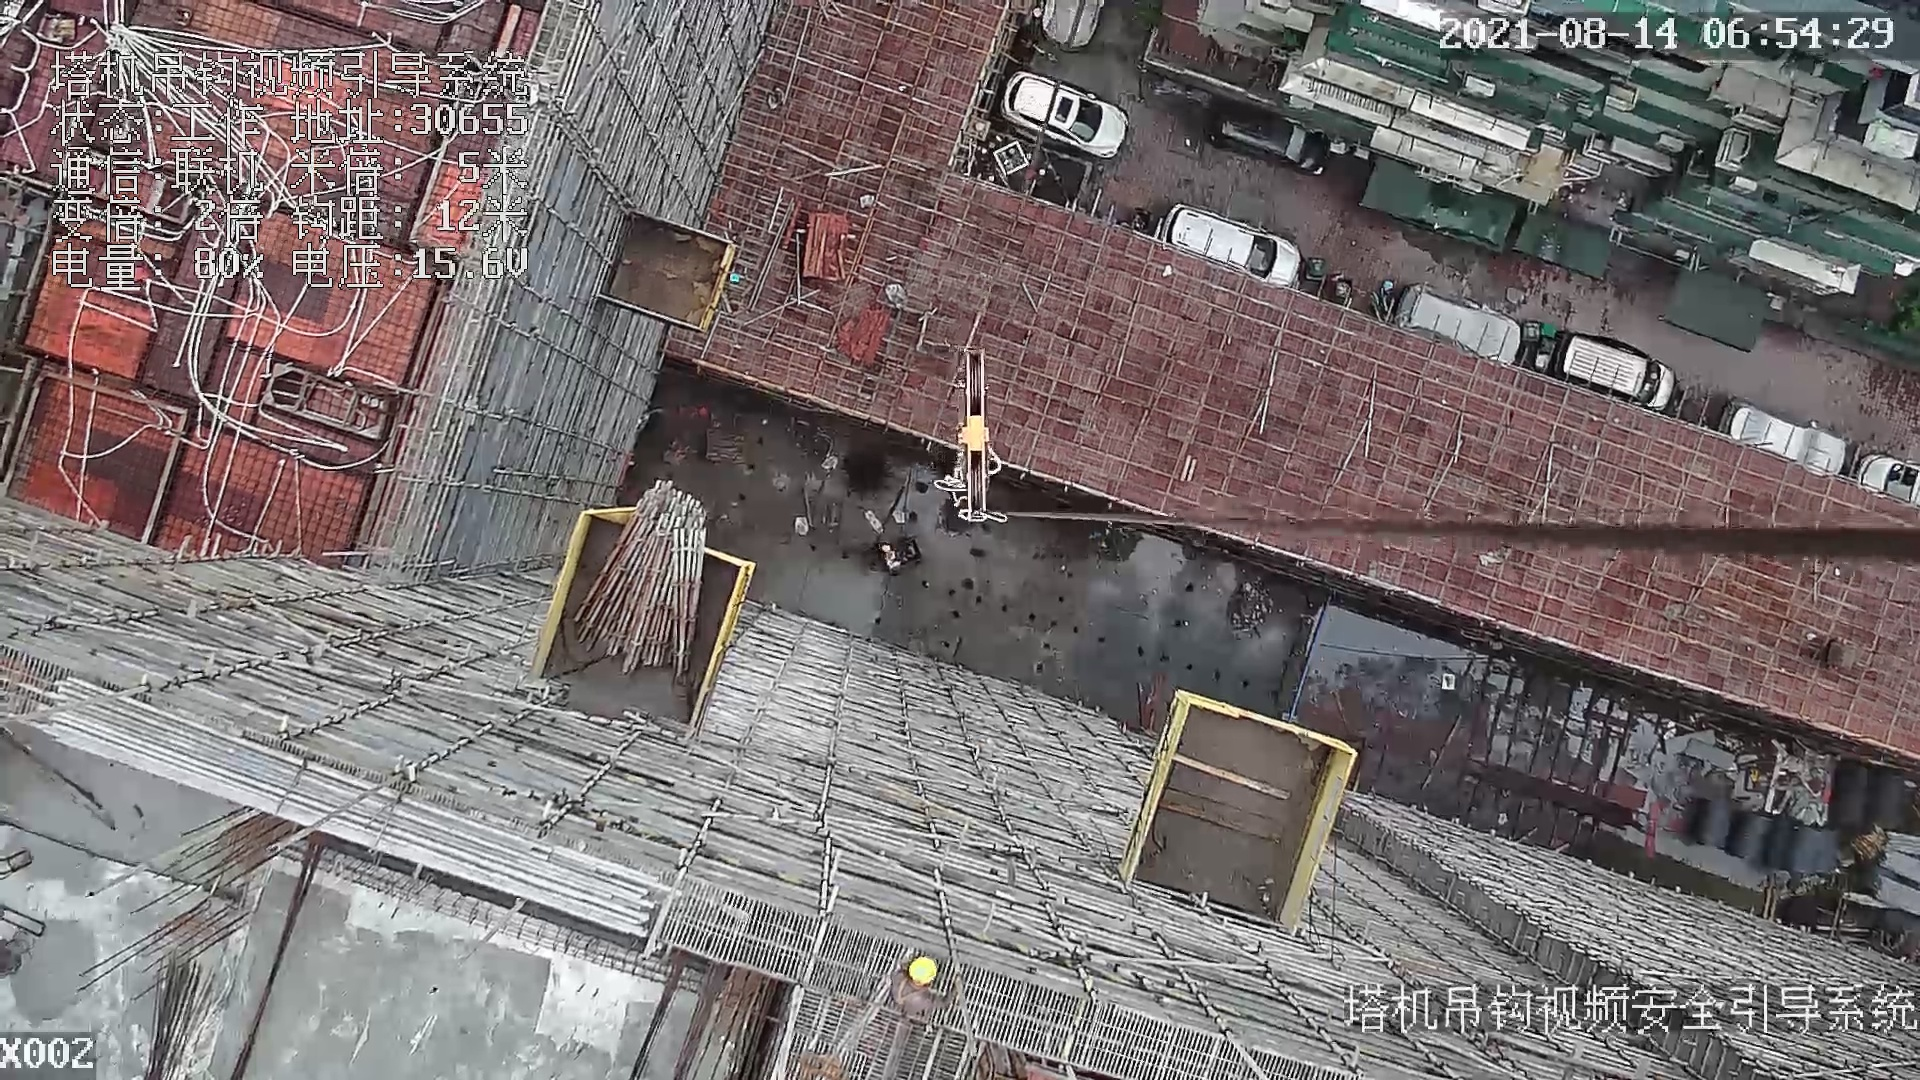helmet: (909, 957, 936, 982)
hook: (954, 342, 1006, 515)
person: (887, 962, 972, 1028)
rebar: (25, 680, 650, 941)
scaffold: (573, 479, 709, 680)
